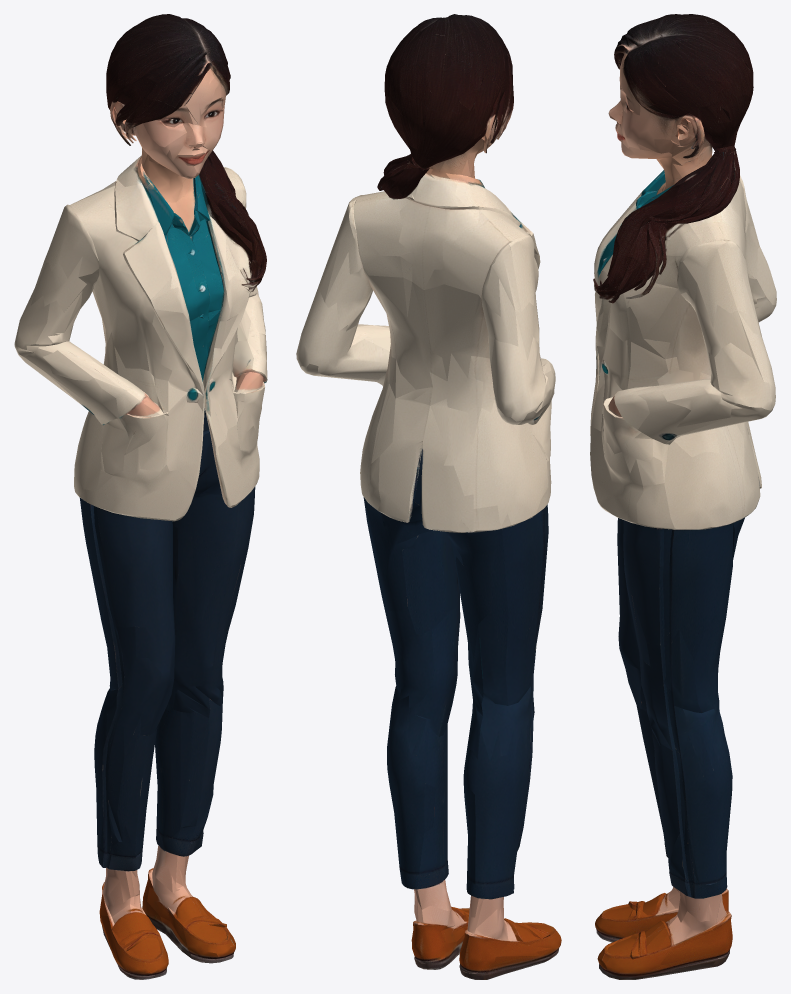
The model's file is nagi.glb.
3 renders of one model, left to right at view 1: azimuth 30°, elevation 25°; view 2: azimuth 150°, elevation 25°; view 3: azimuth 270°, elevation 25°, orthographic. The views are drawn at different scales.
Size of the model in its own units: 0.5083 by 1.9 by 0.34.
1 material, 1 textured.
